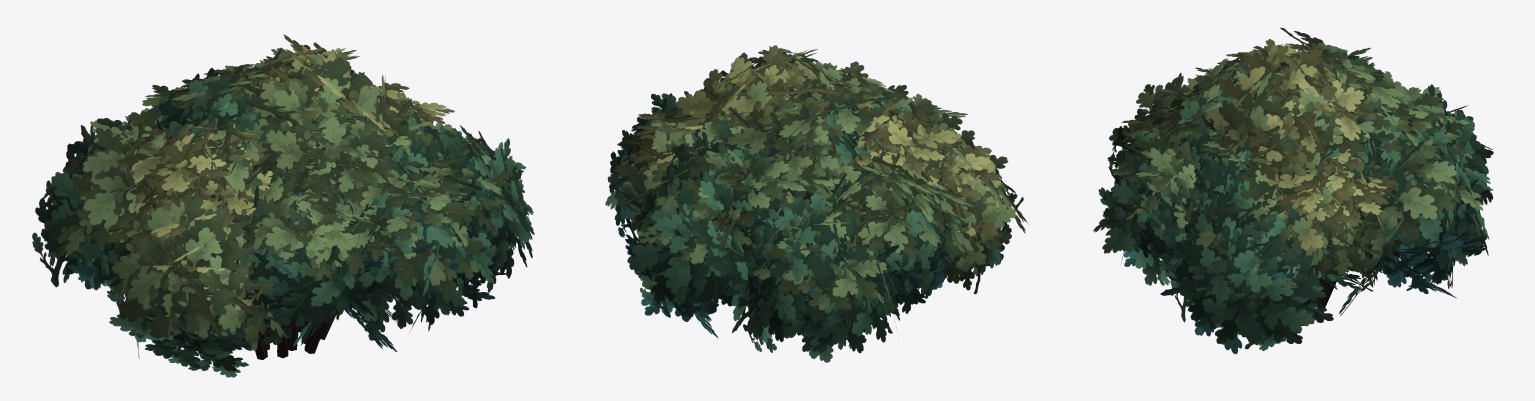
The model's file is shrub_round.glb.
3 renders of one model, left to right at view 1: azimuth 30°, elevation 25°; view 2: azimuth 150°, elevation 25°; view 3: azimuth 270°, elevation 25°, orthographic. The views are drawn at different scales.
Parts seen in each view (by area): view 1: shrub_round; view 2: shrub_round; view 3: shrub_round.
Part boxes in pixels (box(x1,y1,x2,y2)): shrub_round: box(32, 34, 534, 377); shrub_round: box(605, 45, 1028, 362); shrub_round: box(1093, 27, 1493, 354).
Bounding box in the file's own units: 1.35 × 0.8637 × 1.2.
Materials: 2 (2 with a texture image).
